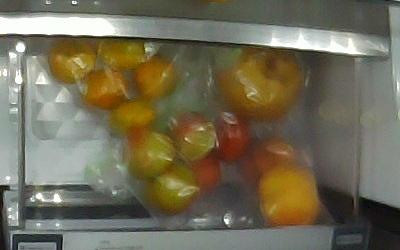peach_vinyl: (258, 165, 319, 227), (238, 138, 297, 188)
pear_vinyl: (212, 47, 303, 122)
tangerine_vinyl: (129, 55, 180, 100), (48, 37, 96, 83), (107, 97, 155, 136), (83, 69, 127, 110), (96, 37, 146, 70)
tomato_vinyl: (142, 161, 201, 215), (124, 128, 175, 180), (171, 111, 217, 162), (213, 112, 249, 163), (191, 154, 221, 193)
